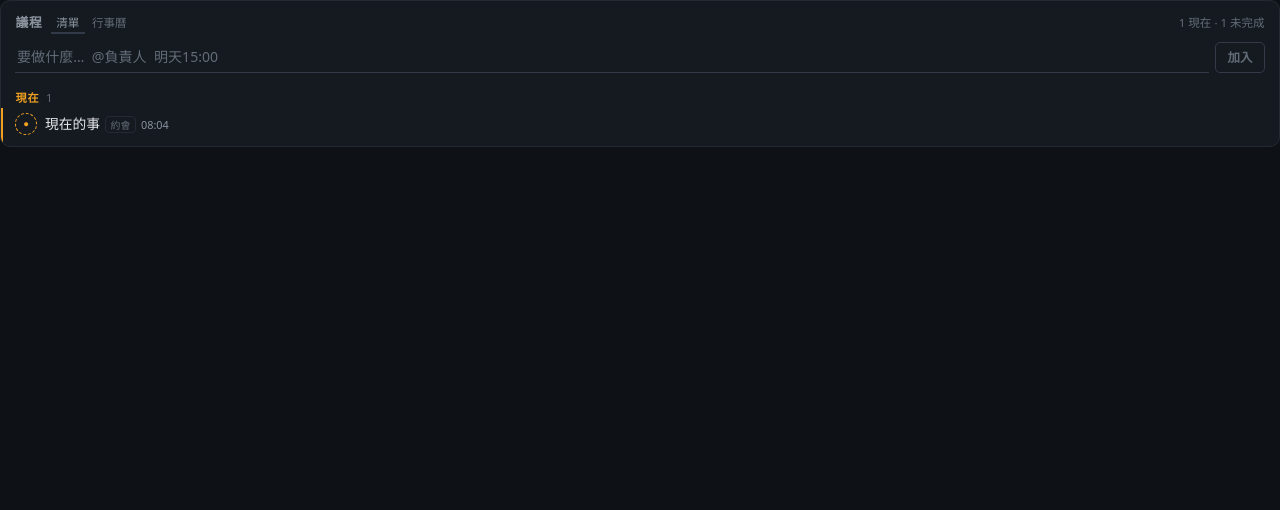
Scenario: the clock › gives the grid the same clock as the board
What coordinates should you click on to do the following:
click the button "行事曆"
I would click on:
 (109, 23)
Its box is [86, 13, 132, 34].
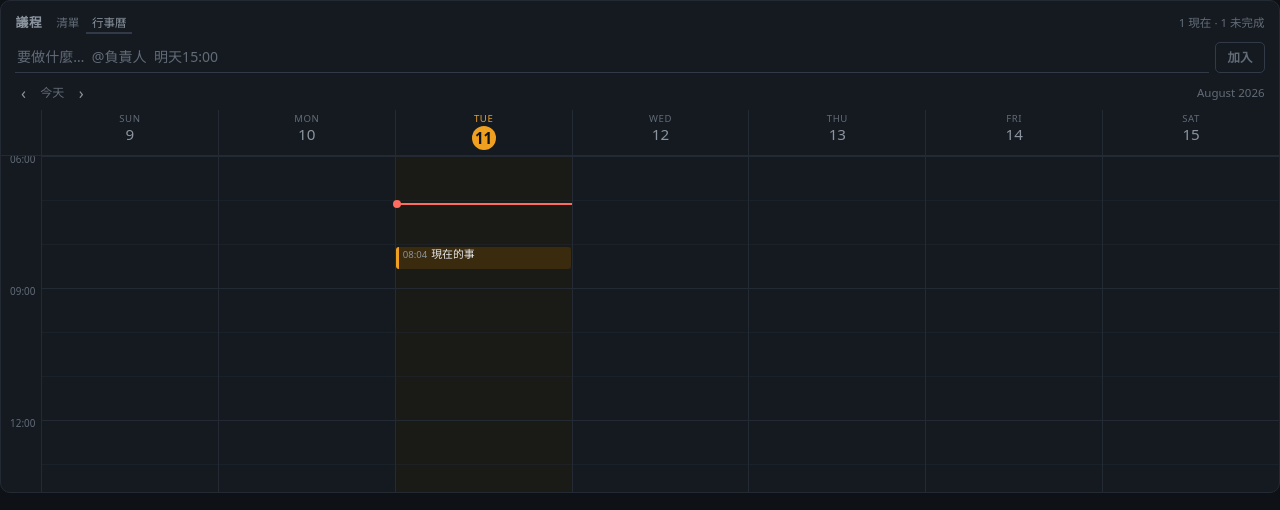
Check: the button with class "slot--now" is shown, box [396, 247, 572, 269]
